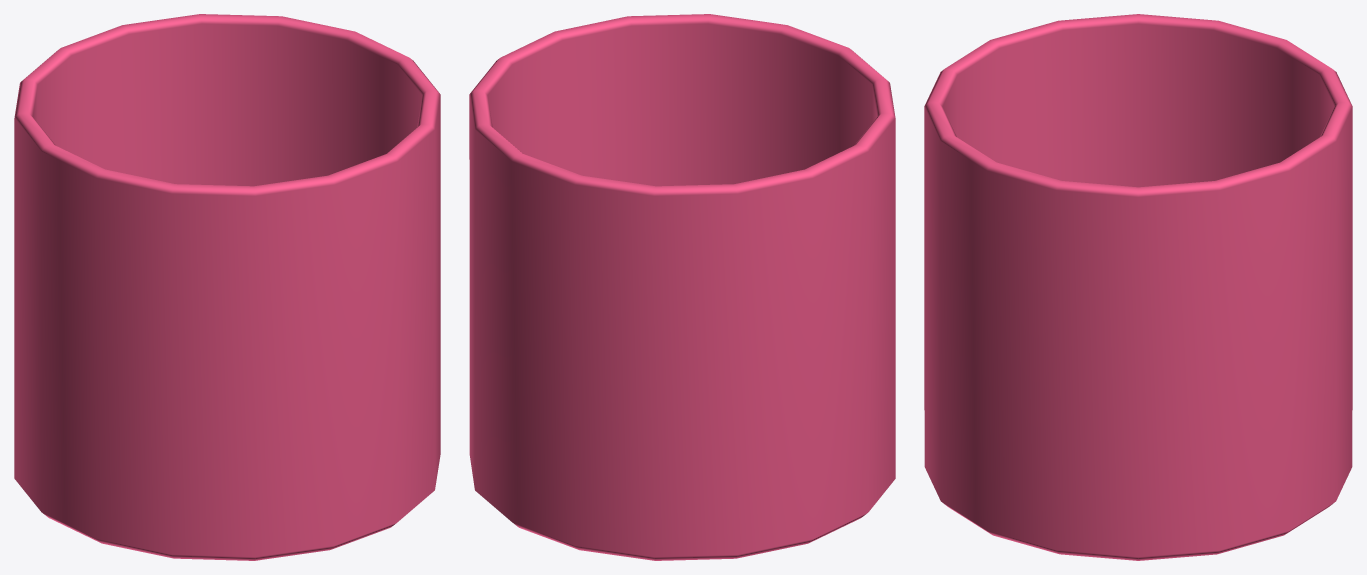
The model's file is Public_8_Cup_1.glb.
The picture shows the model from 3 angles, left to right: view 1: azimuth 30°, elevation 25°; view 2: azimuth 150°, elevation 25°; view 3: azimuth 270°, elevation 25°; orthographic projection.
Parts seen in each view (by area): view 1: Public_8_Cup_1; view 2: Public_8_Cup_1; view 3: Public_8_Cup_1.
Part boxes in pixels (left/top/right/bottom): Public_8_Cup_1: left=14, top=14, right=440, bottom=560; Public_8_Cup_1: left=469, top=14, right=895, bottom=560; Public_8_Cup_1: left=924, top=14, right=1352, bottom=560.
Size of the model in its own units: 0.5228 by 0.5254 by 0.5228.
Materials: 1 (1 with a texture image).
